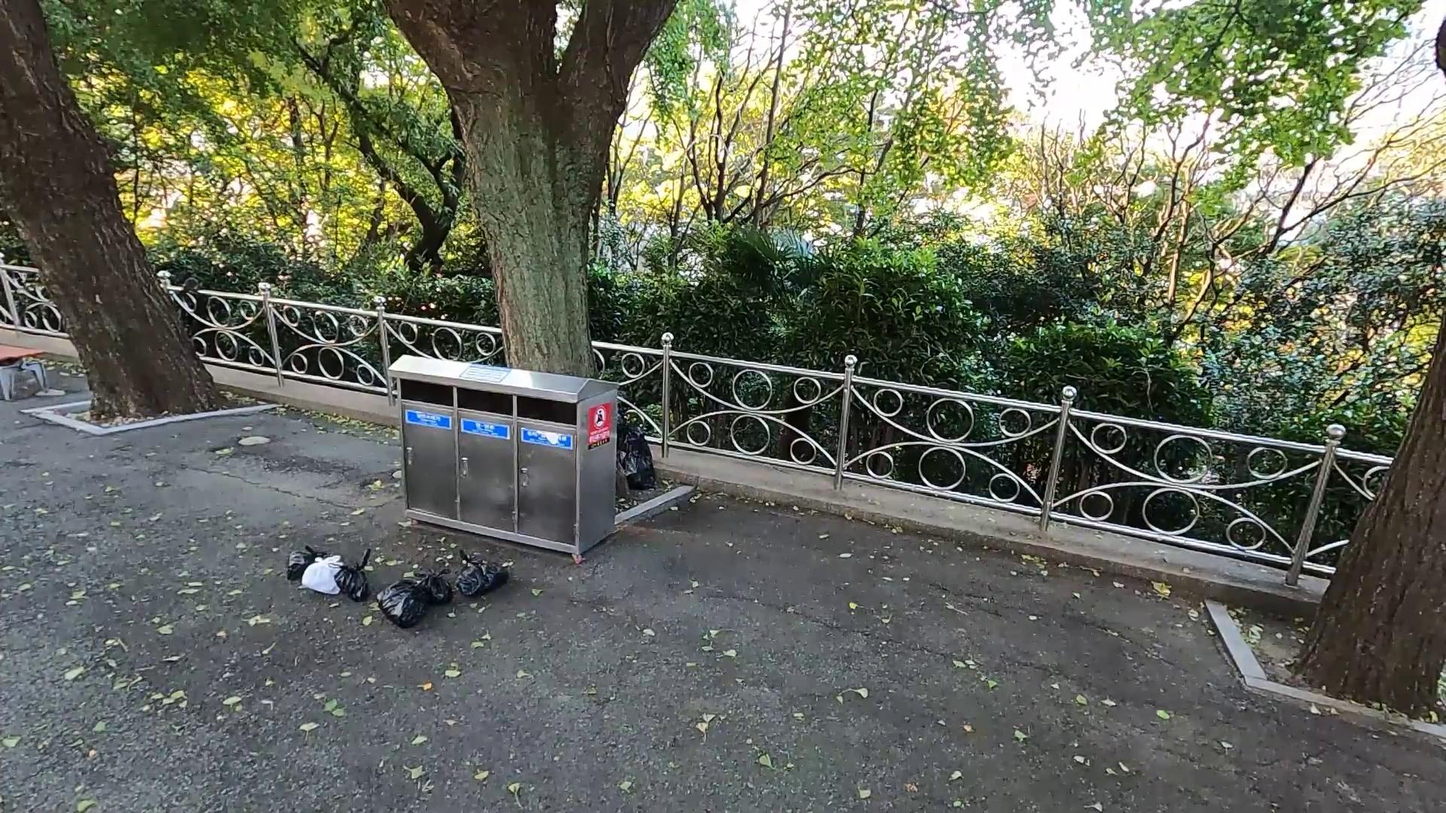trash: (376, 572, 439, 633), (617, 413, 664, 493), (450, 546, 514, 593), (302, 548, 347, 602), (337, 544, 377, 601), (287, 538, 338, 579), (411, 564, 456, 608)
